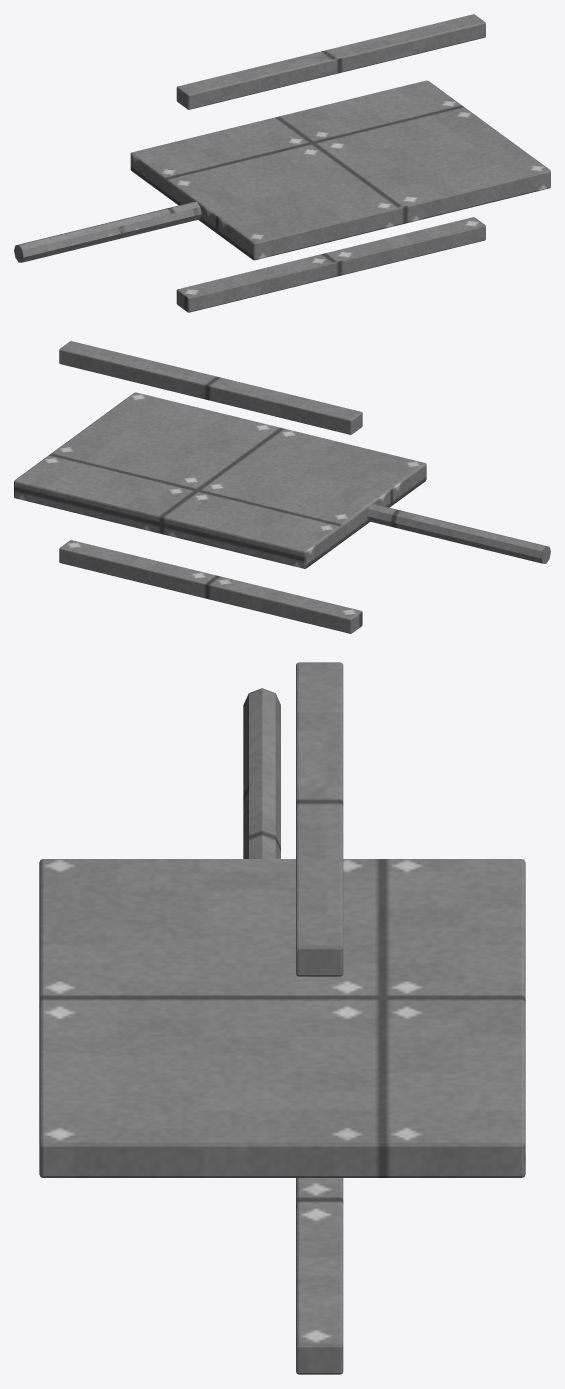
File: belt.glb
3 views of the same model, one above another, from view 1: azimuth 30°, elevation 25°; view 2: azimuth 150°, elevation 25°; view 3: azimuth 270°, elevation 25° (orthographic). The views are drawn at different scales.
Parts seen in each view (by area): view 1: belt; view 2: belt; view 3: belt.
Boxes of the visible parts, box(x1,y1,x2,y2) form: belt: box(14, 14, 550, 312); belt: box(14, 341, 550, 633); belt: box(39, 662, 525, 1374).
Bounding box in the file's own units: 1.6 × 0.7 × 0.72.
1 material, 1 textured.
